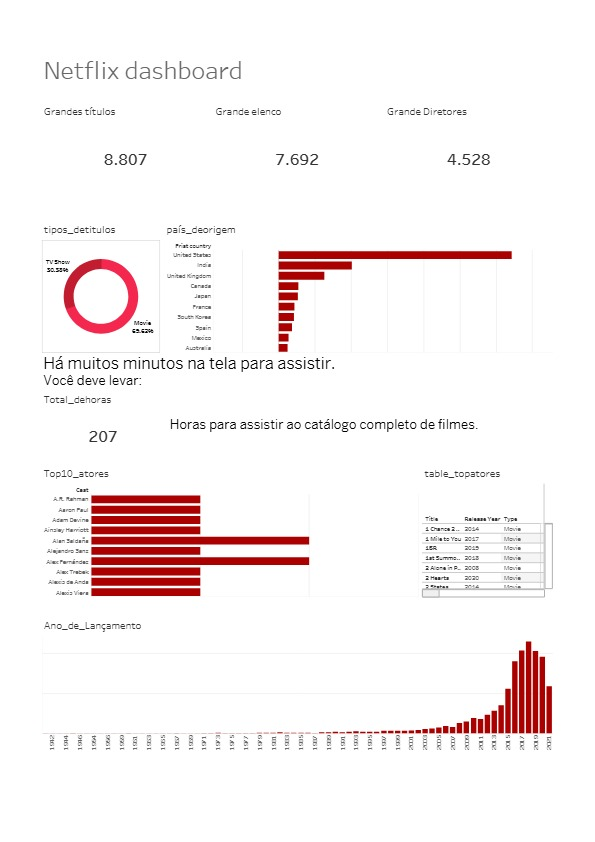

The dashboard page shown, as its layout file describes it:
{"tool":"tableau","page":{"name":"Painel 1","canvas":[1066,1468],"ordinal":0},"visuals":[{"type":"text","box":[8,8,1050,121]},{"type":"worksheet","title":"Grandes títulos","mark":"Automatic","box":[8,129,350,200]},{"type":"worksheet","title":"Grande elenco","mark":"Automatic","box":[358,129,350,200]},{"type":"worksheet","title":"Grande Diretores","mark":"Automatic","box":[708,129,350,200]},{"type":"blank","box":[8,329,1050,40]},{"type":"worksheet","title":"tipos_detitulos","mark":"Pie","cols":["Calculation_1359524192556920835","Calculation_1359524192556920835"],"box":[8,369,250,281.7]},{"type":"worksheet","title":"país_deorigem","mark":"Automatic","rows":["country - Dividir 1"],"cols":["title"],"box":[258,369,800,281.7]},{"type":"text","box":[8,650.7,1050,33]},{"type":"text","box":[8,683.7,1050,33]},{"type":"worksheet","title":"Total_dehoras","mark":"Automatic","box":[8,716.7,258,150]},{"type":"text","box":[266,716.7,792,150]},{"type":"worksheet","title":"Top10_atores","mark":"Automatic","rows":["cast"],"cols":["title"],"box":[8,866.7,776,281.7]},{"type":"worksheet","title":"table_topatores","mark":"Automatic","rows":["title","release_year","type"],"box":[784,866.7,274,281.7]},{"type":"blank","box":[8,1148.3,525,30]},{"type":"blank","box":[533,1148.3,525,30]},{"type":"worksheet","title":"Ano_de_Lançamento","mark":"Automatic","rows":["title"],"cols":["release_year"],"box":[8,1178.3,1050,281.7]}]}

Visuals, with their boxes in screenshot pixels (x1, y1, x2, y2), scaled from the page's 1066x1468 canvas onto the 595x842 screenshot:
text: detection(4, 5, 591, 74)
"Grandes títulos" worksheet: detection(4, 74, 200, 189)
"Grande elenco" worksheet: detection(200, 74, 395, 189)
"Grande Diretores" worksheet: detection(395, 74, 591, 189)
blank: detection(4, 189, 591, 212)
"tipos_detitulos" worksheet (Pie marks): detection(4, 212, 144, 373)
"país_deorigem" worksheet: detection(144, 212, 591, 373)
text: detection(4, 373, 591, 392)
text: detection(4, 392, 591, 411)
"Total_dehoras" worksheet: detection(4, 411, 148, 497)
text: detection(148, 411, 591, 497)
"Top10_atores" worksheet: detection(4, 497, 438, 659)
"table_topatores" worksheet: detection(438, 497, 591, 659)
blank: detection(4, 659, 298, 676)
blank: detection(298, 659, 591, 676)
"Ano_de_Lançamento" worksheet: detection(4, 676, 591, 837)
